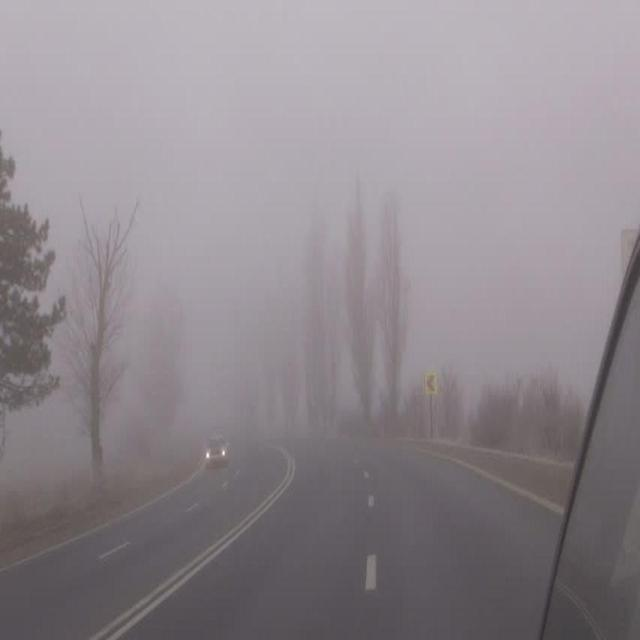Car: (201, 437, 228, 466)
